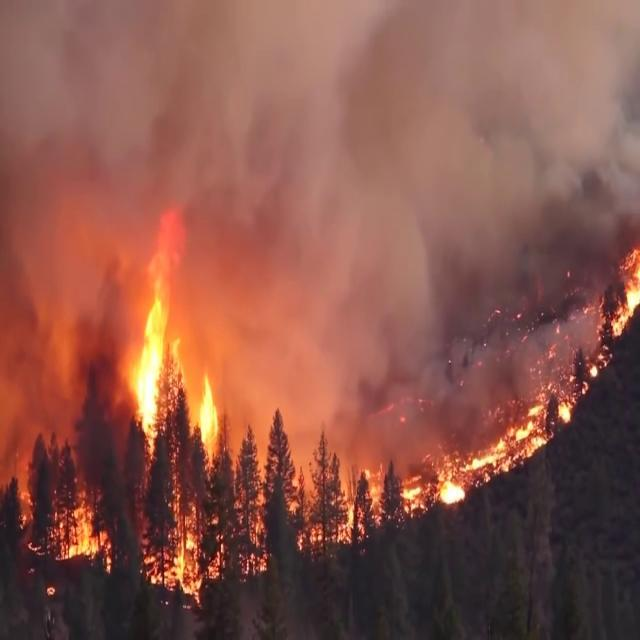Fire: (124, 200, 640, 609), (18, 471, 113, 576)
Smoke: (0, 1, 640, 493)
